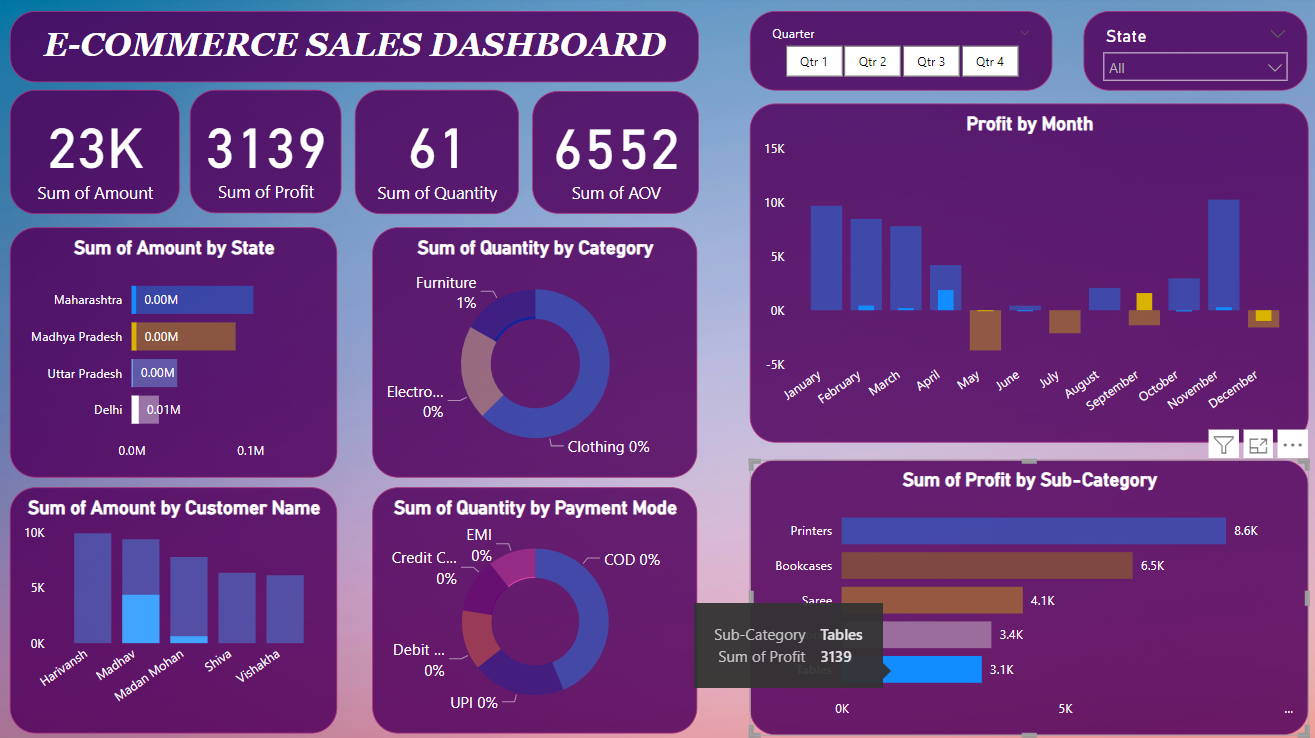

This screenshot's page, from the dashboard's own definition file:
{"tool":"powerbi","page":{"name":"Page 1","canvas":[1280,720],"ordinal":0},"visuals":[{"type":"textbox","box":[13.3,14.5,664.5,68.7],"z":0},{"type":"columnChart","title":"Profit by Month","fields":{"Category":["Orders.Order Date.Variation.Date Hierarchy.Month"],"Y":["Sum(Details.Profit)"]},"box":[727.2,103.7,539.1,326.8],"z":1000},{"type":"barChart","fields":{"Category":["Details.Sub-Category"],"Y":["Sum(Details.Profit)"]},"box":[726,445,539.1,266.5],"z":2000},{"type":"donutChart","fields":{"Category":["Details.Category"],"Y":["Sum(Details.Quantity)"]},"box":[363,223.1,313.6,241.2],"z":3000},{"type":"donutChart","title":"Sum of Quantity by Payment Mode","fields":{"Y":["Sum(Details.Quantity)"],"Category":["Details.PaymentMode"]},"box":[362.5,473.9,313.6,238.6],"z":4000},{"type":"card","fields":{"Values":["Sum(Details.Amount)"]},"box":[13,91,164,120],"z":5000},{"type":"card","fields":{"Values":["Sum(Details.Quantity)"]},"box":[346,90,158,120],"z":6000},{"type":"card","fields":{"Values":["Sum(Details.Profit)"]},"box":[187,91,146,119],"z":7000},{"type":"card","fields":{"Values":["Sum(Details.AOV)"]},"box":[517,92,161,118],"z":8000},{"type":"barChart","fields":{"Category":["Orders.State"],"Y":["Sum(Details.Amount)"]},"box":[13.3,223.1,316,241.2],"z":9000},{"type":"columnChart","title":"Sum of Amount by Customer Name","fields":{"Category":["Orders.CustomerName"],"Y":["Sum(Details.Amount)"]},"box":[13.6,473.9,315.9,238.6],"z":10000},{"type":"slicer","fields":{"Values":["Orders.Order Date.Variation.Date Hierarchy.Quarter"]},"box":[727.2,14.5,291.9,77.2],"z":11000},{"type":"slicer","fields":{"Values":["Orders.State"]},"box":[1049.2,14.5,215.9,77.2],"z":12000}]}

Visuals, with their boxes in screenshot pixels (x1, y1, x2, y2), scaled from the page's 1280x720 canvas onto the 1315x738 screenshot:
textbox: {"left": 14, "top": 15, "right": 696, "bottom": 85}
"Profit by Month" columnChart: {"left": 747, "top": 106, "right": 1301, "bottom": 441}
barChart - Details.Sub-Category x Sum(Details.Profit): {"left": 746, "top": 456, "right": 1300, "bottom": 729}
donutChart - Details.Category x Sum(Details.Quantity): {"left": 373, "top": 229, "right": 695, "bottom": 476}
"Sum of Quantity by Payment Mode" donutChart: {"left": 372, "top": 486, "right": 695, "bottom": 730}
card - Sum(Details.Amount): {"left": 13, "top": 93, "right": 182, "bottom": 216}
card - Sum(Details.Quantity): {"left": 355, "top": 92, "right": 518, "bottom": 215}
card - Sum(Details.Profit): {"left": 192, "top": 93, "right": 342, "bottom": 215}
card - Sum(Details.AOV): {"left": 531, "top": 94, "right": 697, "bottom": 215}
barChart - Orders.State x Sum(Details.Amount): {"left": 14, "top": 229, "right": 338, "bottom": 476}
"Sum of Amount by Customer Name" columnChart: {"left": 14, "top": 486, "right": 339, "bottom": 730}
slicer - Orders.Order Date.Variation.Date Hierarchy.Quarter: {"left": 747, "top": 15, "right": 1047, "bottom": 94}
slicer - Orders.State: {"left": 1078, "top": 15, "right": 1300, "bottom": 94}
